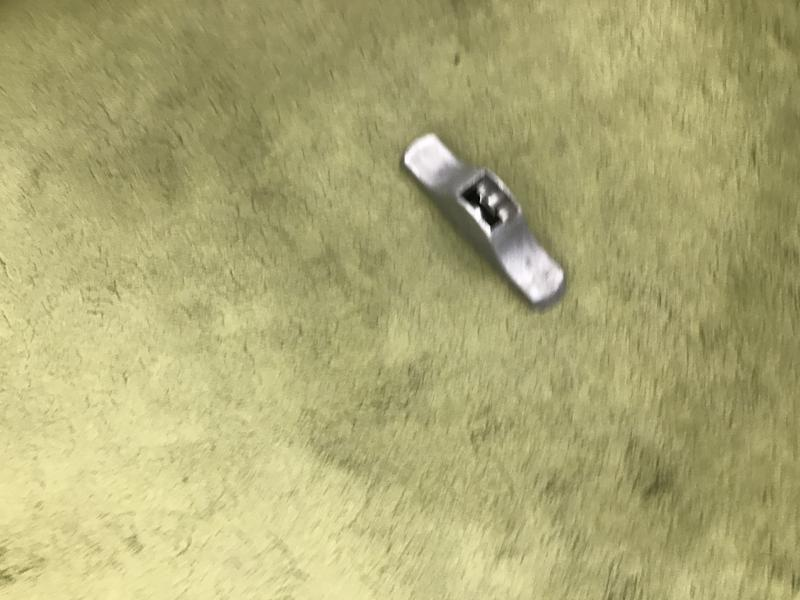zapchast: (388, 119, 584, 321)
